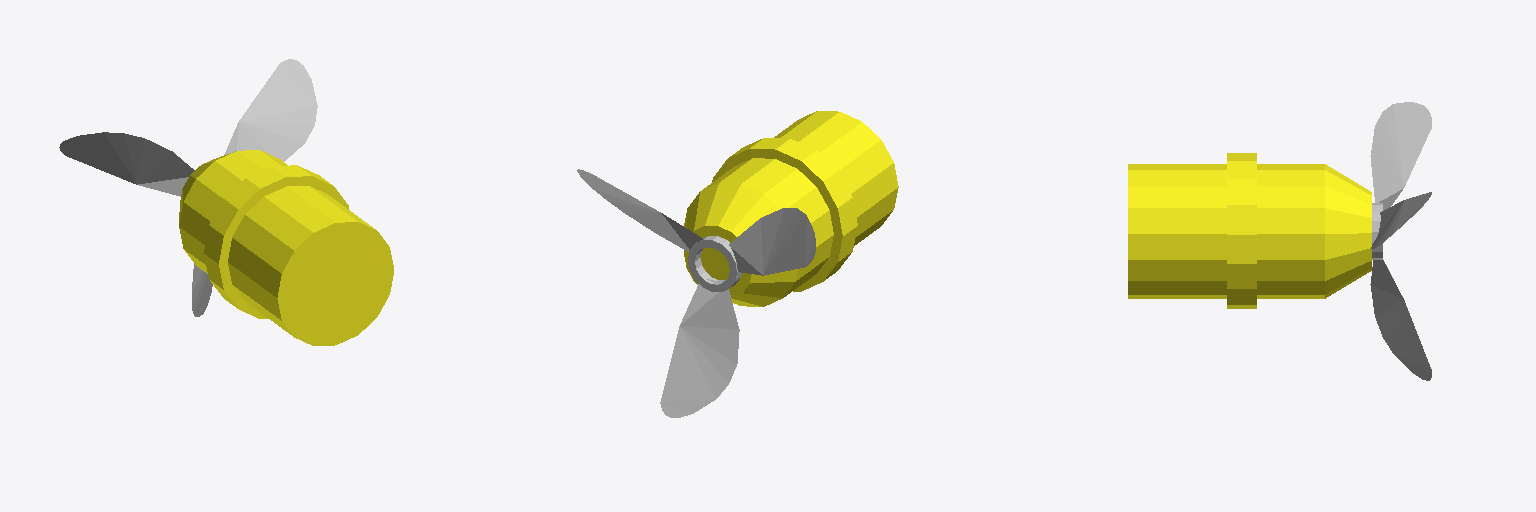
File: propeller_yellow.obj
3 renders of one model, left to right at view 1: azimuth 30°, elevation 25°; view 2: azimuth 150°, elevation 25°; view 3: azimuth 270°, elevation 25°, orthographic.
Visible parts, largest first — view 1: __, __.1, __.2; view 2: __, __.1, __.2, __.6; view 3: __, __.1, __.2.
Boxes of the visible parts, <box> form: __: <box>59,132,393,345</box>; __.1: <box>192,165,348,318</box>; __.2: <box>224,59,317,161</box>; __: <box>684,111,898,306</box>; __.1: <box>660,138,857,417</box>; __.2: <box>577,169,702,251</box>; __.6: <box>688,236,741,291</box>; __: <box>1128,102,1431,298</box>; __.1: <box>1227,153,1431,380</box>; __.2: <box>1371,192,1431,248</box>.
Bounding box in the file's own units: 205 × 185 × 222.